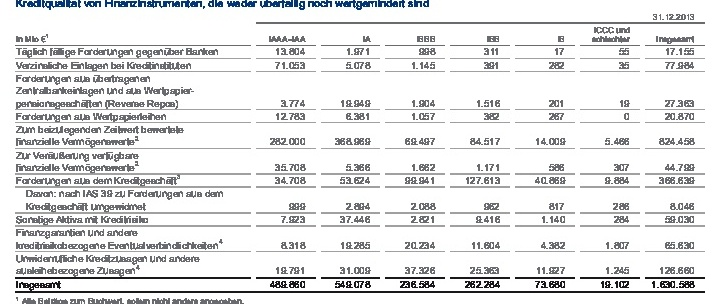table: (0, 0, 718, 304)
